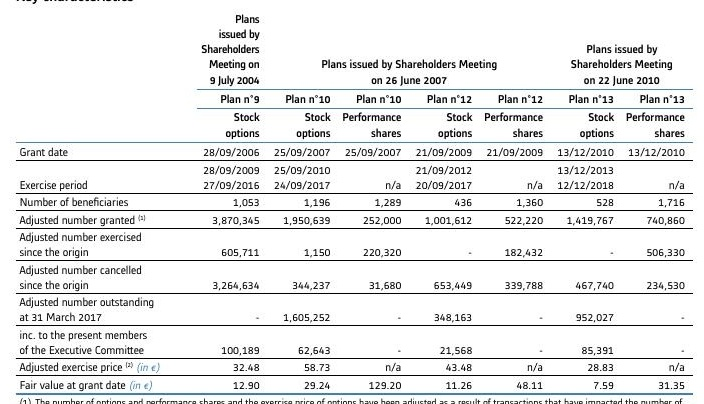table: (0, 0, 704, 404)
